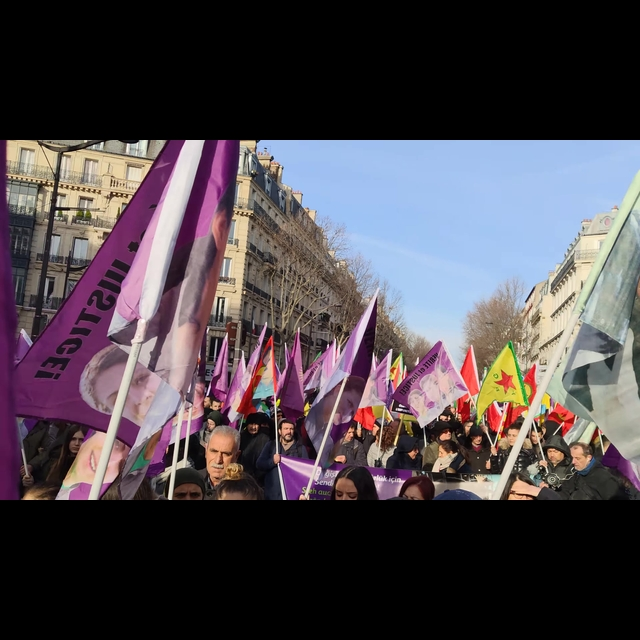YPG: (473, 339, 529, 421)
